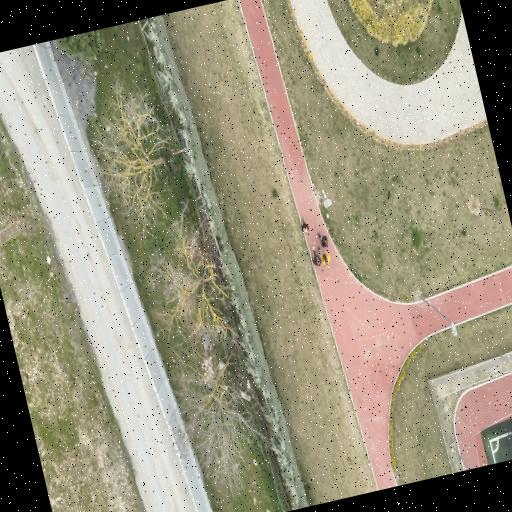person: (319, 248, 330, 264), (312, 246, 321, 265), (318, 233, 327, 246), (301, 220, 309, 232)
